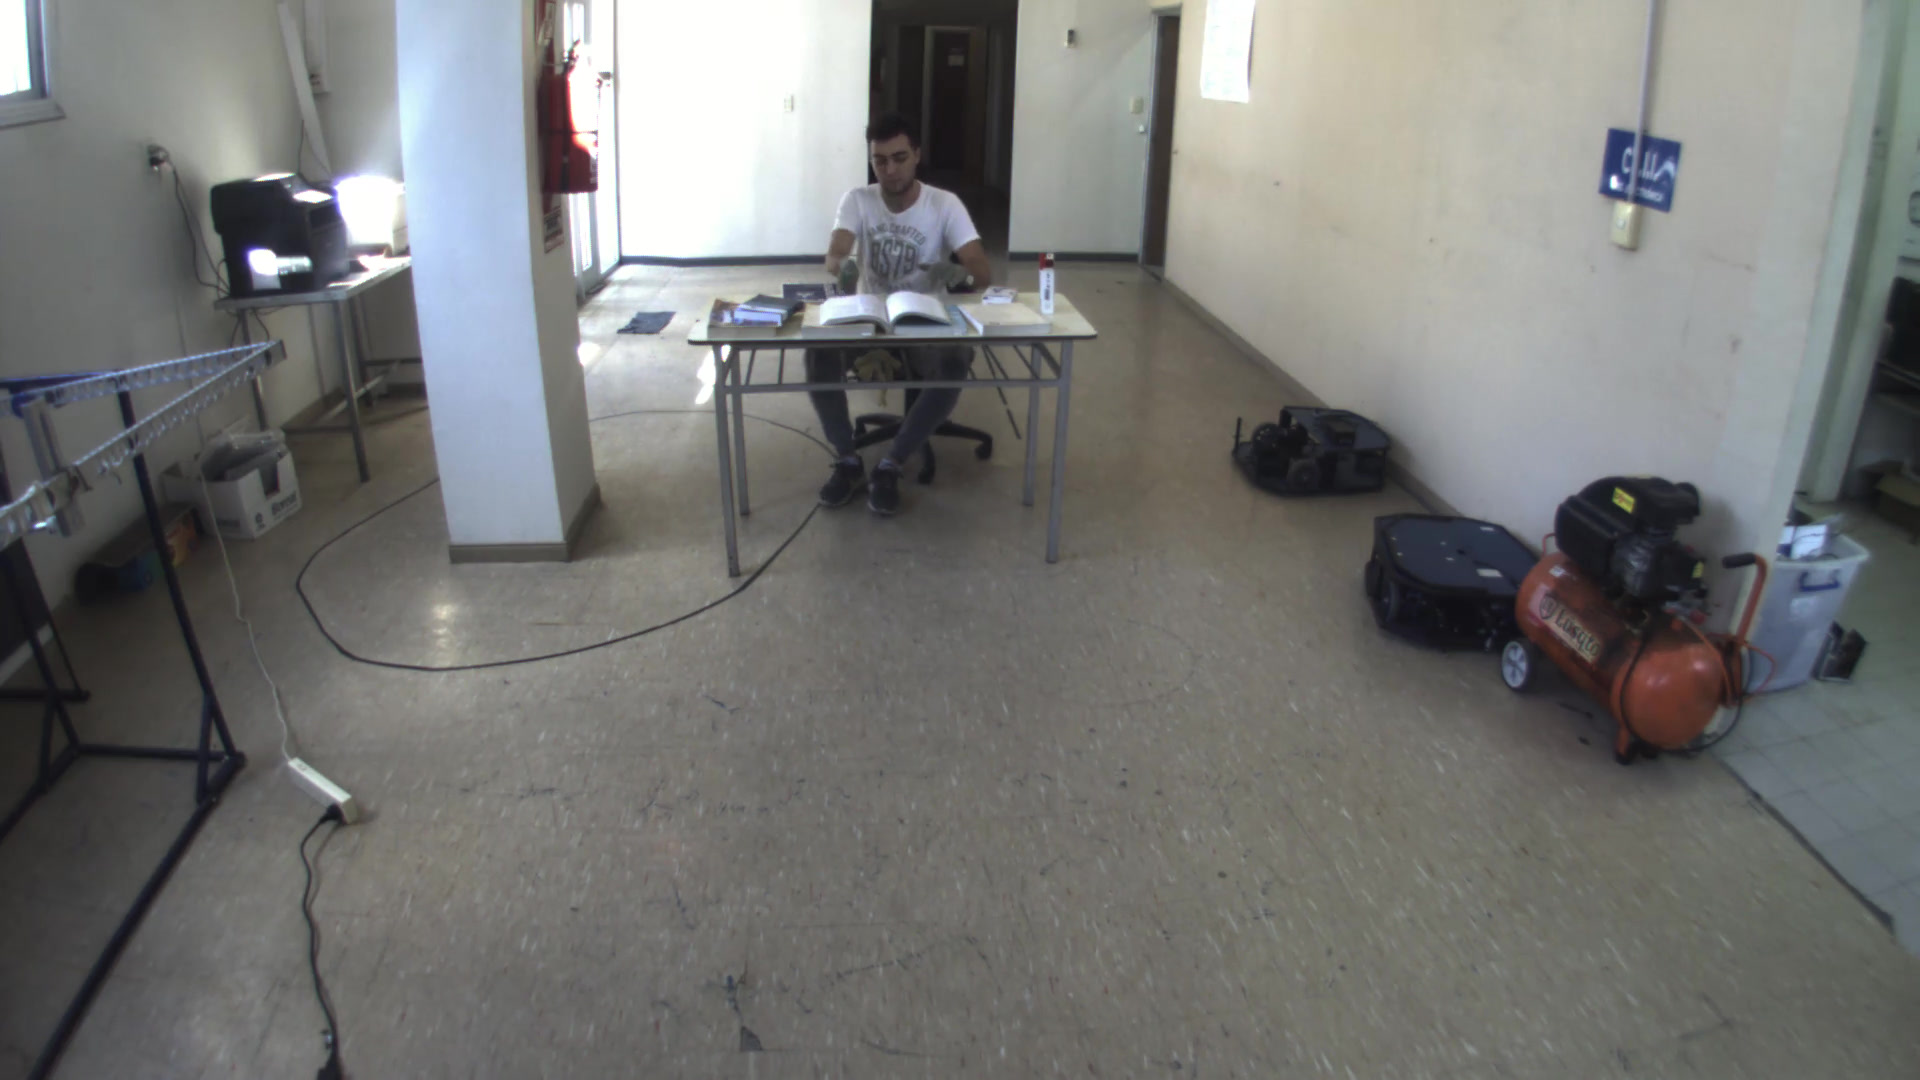hand: (916, 256, 971, 291), (835, 252, 862, 299)
